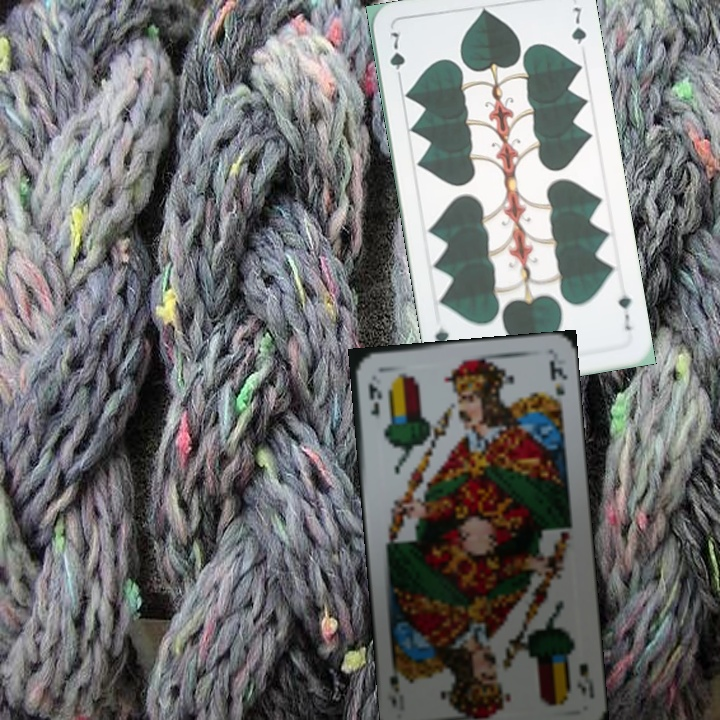EK: (573, 659, 596, 701), (365, 378, 384, 419)
G7: (385, 28, 408, 86), (614, 290, 634, 333)
